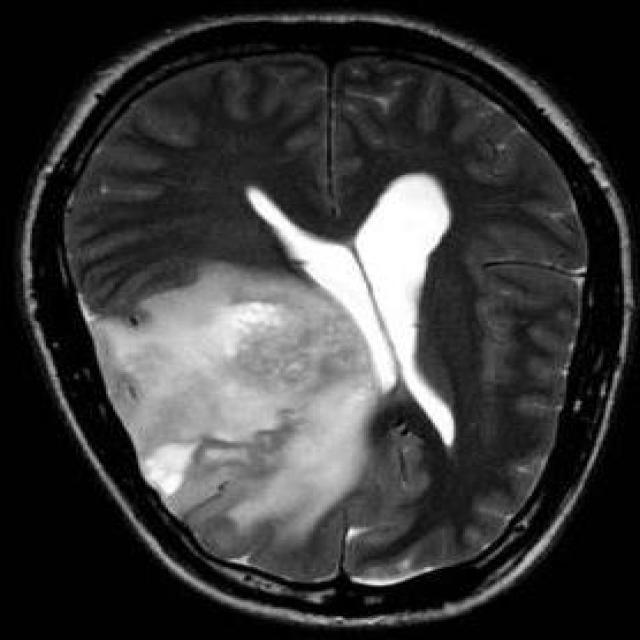brain tumor: (87, 263, 380, 583)
